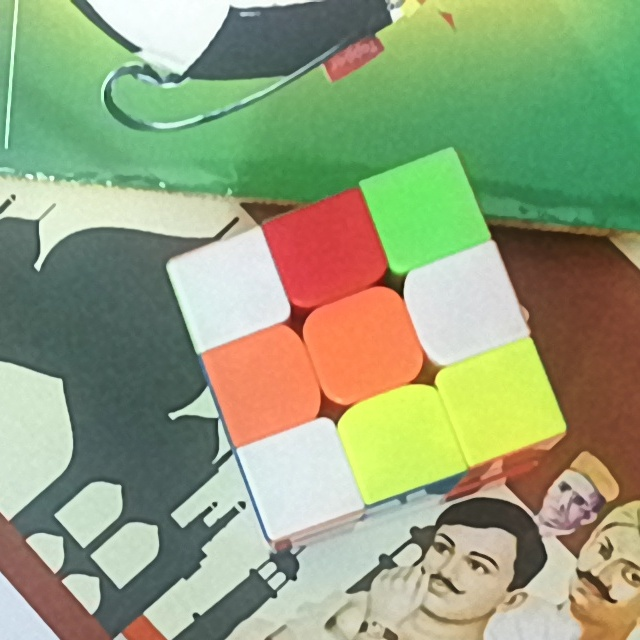tile: (324, 307, 403, 383), (387, 174, 462, 250), (432, 266, 507, 341), (359, 405, 440, 474), (229, 346, 300, 423), (288, 216, 367, 285), (461, 367, 537, 438), (267, 439, 339, 512), (195, 252, 266, 324)
